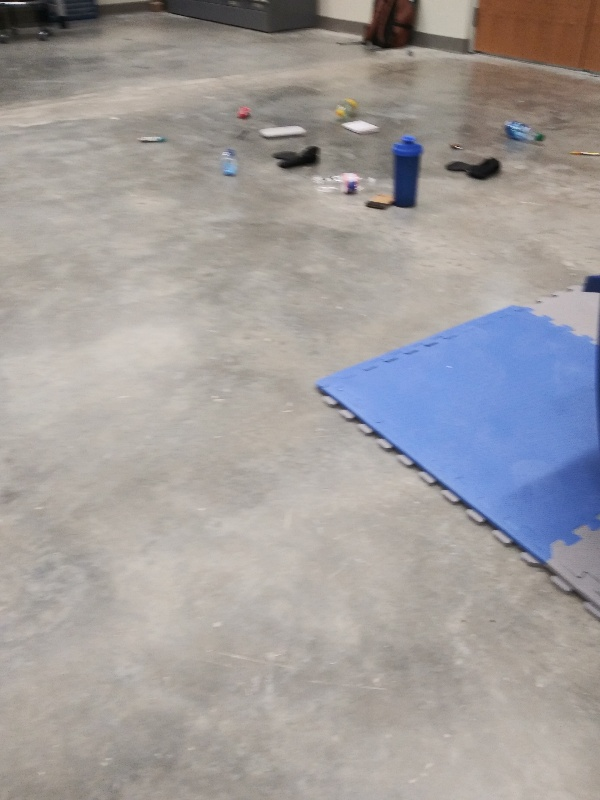bottle: (310, 170, 382, 198), (498, 117, 548, 149), (215, 144, 243, 179), (333, 92, 363, 124)
